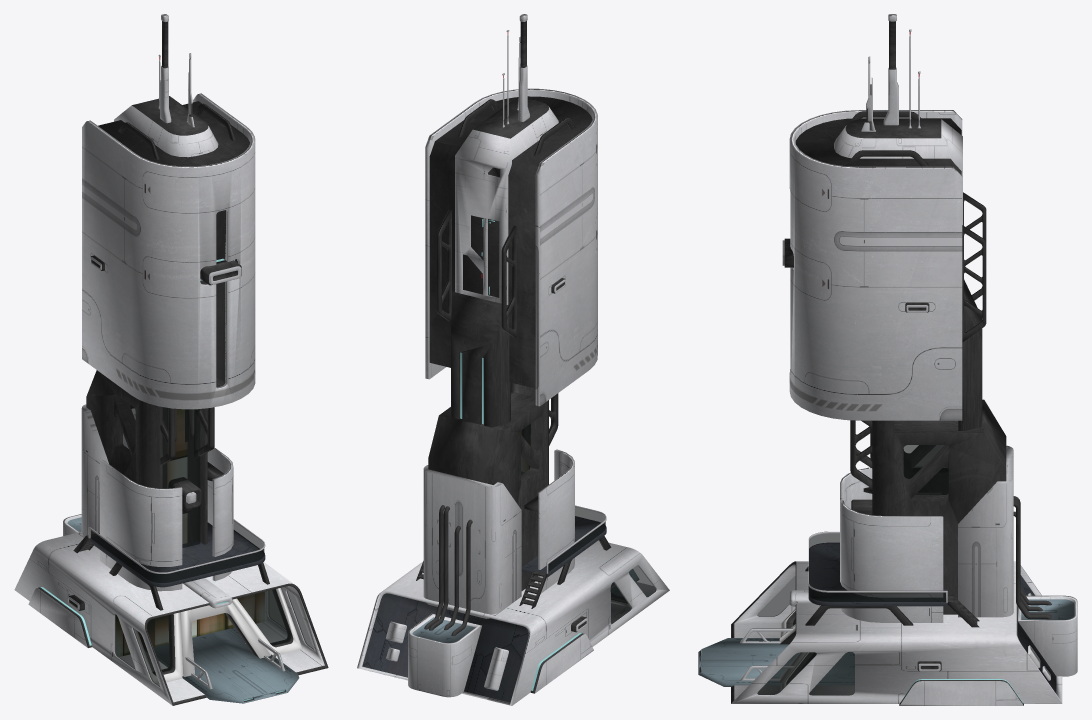
File: scifi2.glb
The picture shows the model from 3 angles, left to right: view 1: azimuth 30°, elevation 25°; view 2: azimuth 150°, elevation 25°; view 3: azimuth 270°, elevation 25°; orthographic projection. The views are drawn at different scales.
Parts seen in each view (by area): view 1: Object_12, Object_11, Object_3, Object_7, Object_6, Object_5, Object_13, Object_14, Object_15; view 2: Object_3, Object_11, Object_12, Object_5, Object_7, Object_6, Object_9; view 3: Object_12, Object_11, Object_3, Object_7, Object_6, Object_5.
Part boxes in pixels (x1,y1,x2,y2): Object_12: (81, 93, 255, 537); Object_11: (14, 14, 324, 705); Object_3: (38, 96, 328, 705); Object_7: (90, 405, 313, 686); Object_6: (67, 517, 299, 703); Object_5: (88, 522, 265, 587); Object_13: (134, 588, 302, 684); Object_14: (116, 592, 264, 656); Object_15: (167, 409, 187, 543); Object_3: (416, 96, 627, 693); Object_11: (357, 14, 669, 705); Object_12: (423, 88, 597, 618); Object_5: (362, 516, 606, 702); Object_7: (520, 423, 656, 623); Object_6: (412, 569, 639, 642); Object_9: (460, 219, 581, 690); Object_12: (789, 110, 1013, 617); Object_11: (731, 14, 1077, 705); Object_3: (699, 111, 1051, 705); Object_7: (757, 445, 948, 695); Object_6: (698, 599, 1074, 686); Object_5: (808, 543, 1056, 693).
Size of the model in its own units: 5.8 by 20.61 by 10.99.
Materials: 14 (9 with a texture image).
